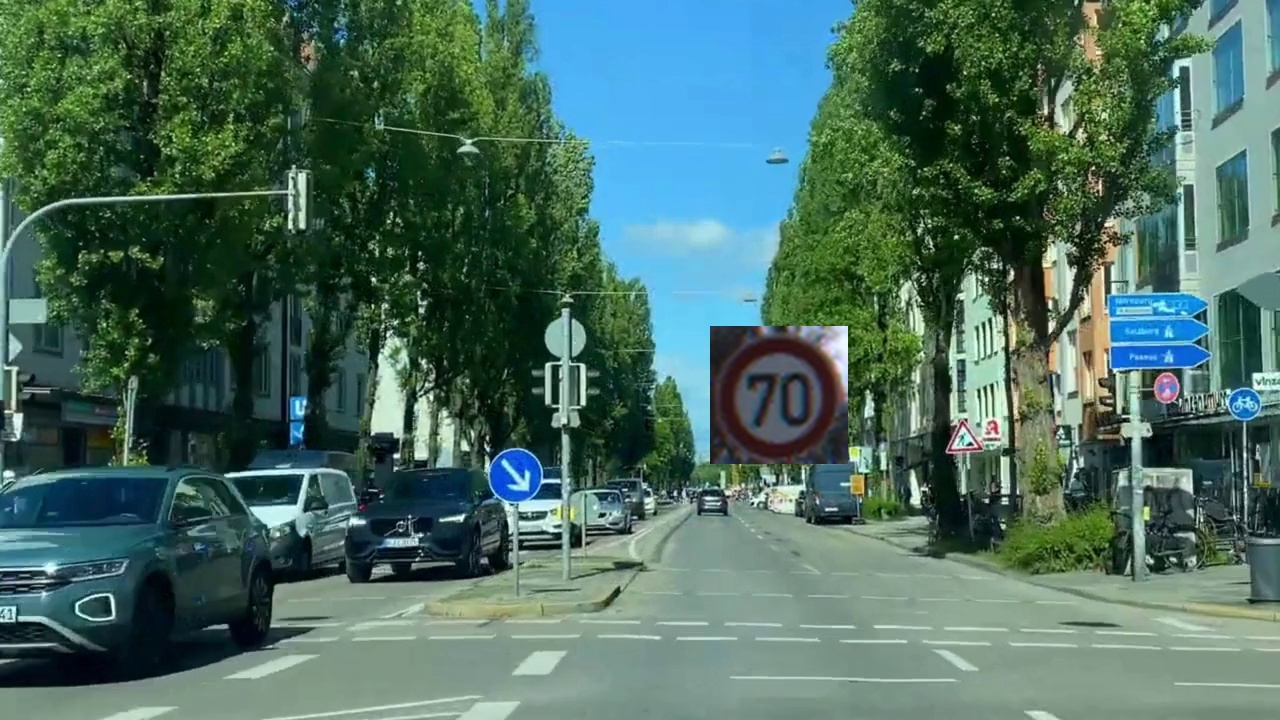Speed 70: (710, 326, 848, 464)
